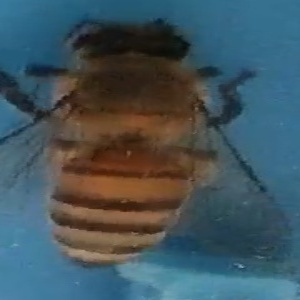bee: (15, 16, 295, 278)
